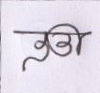o_matra: (69, 23, 84, 55)
